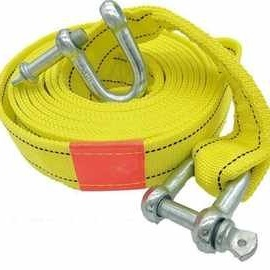9/可回收垃圾/绳子: (1, 6, 270, 203)
